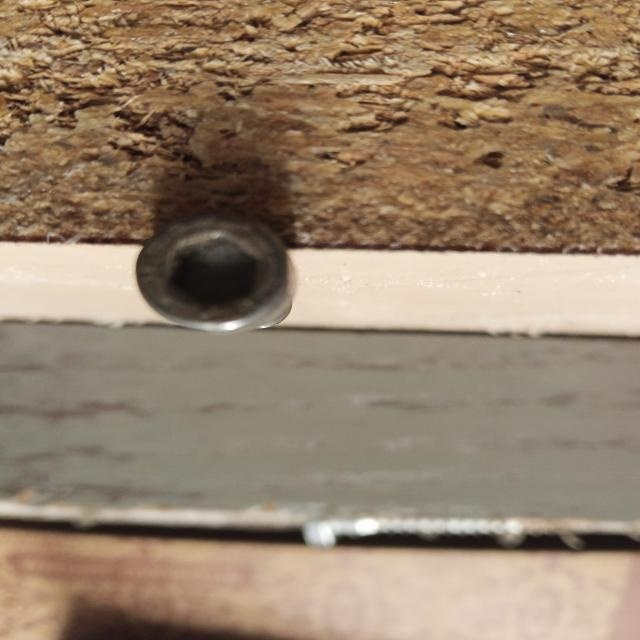allen: (134, 210, 295, 329)
